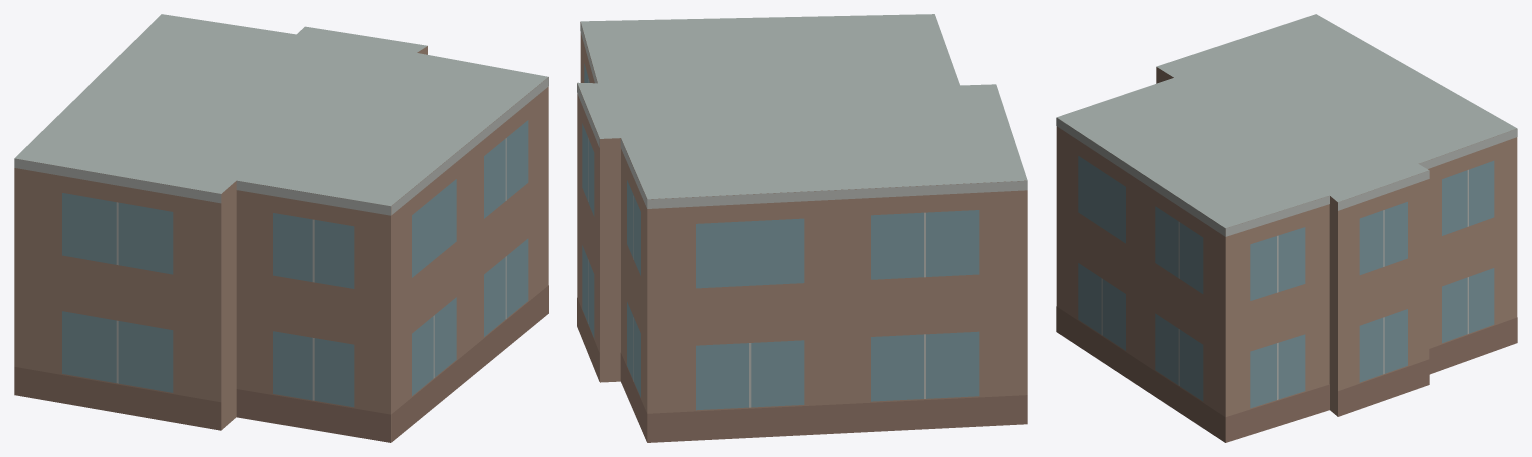
The model's file is survey-upis-33009499.glb.
3 views of the same model, side by side, from view 1: azimuth 30°, elevation 25°; view 2: azimuth 150°, elevation 25°; view 3: azimuth 270°, elevation 25° (orthographic). The views are drawn at different scales.
Parts seen in each view (by area): view 1: survey-upis-33009499.tmp; view 2: survey-upis-33009499.tmp; view 3: survey-upis-33009499.tmp.
Boxes of the visible parts, left/top/right/bottom form: survey-upis-33009499.tmp: left=14, top=14, right=548, bottom=442; survey-upis-33009499.tmp: left=577, top=14, right=1027, bottom=442; survey-upis-33009499.tmp: left=1056, top=14, right=1517, bottom=442.
Bounding box in the file's own units: 13.08 × 6.1 × 11.89.
